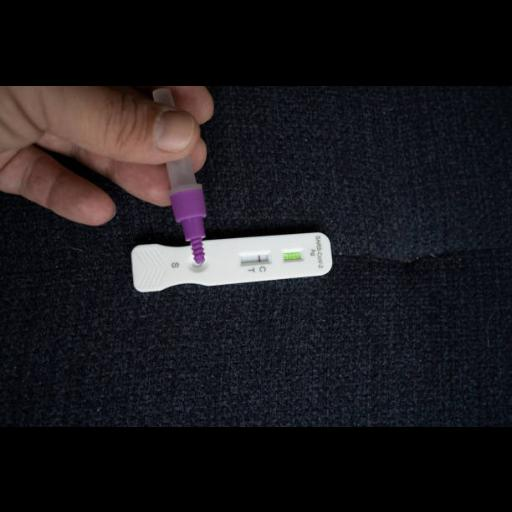Neg: (132, 231, 336, 292)
